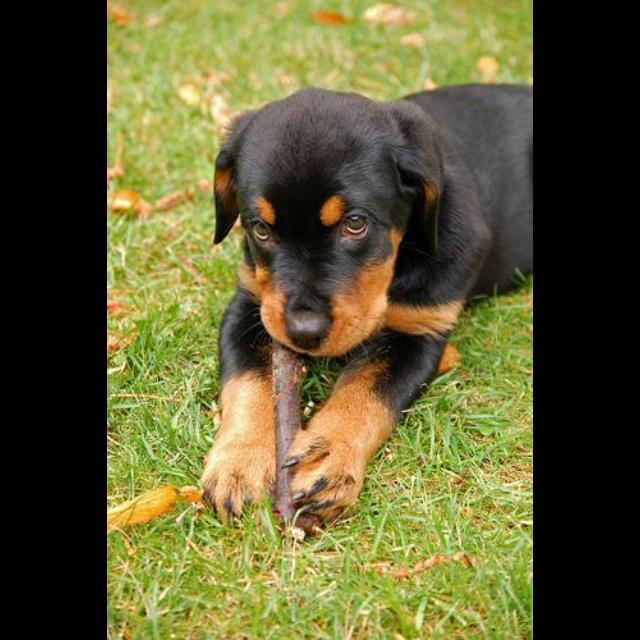rottweiler: (201, 82, 533, 537)
